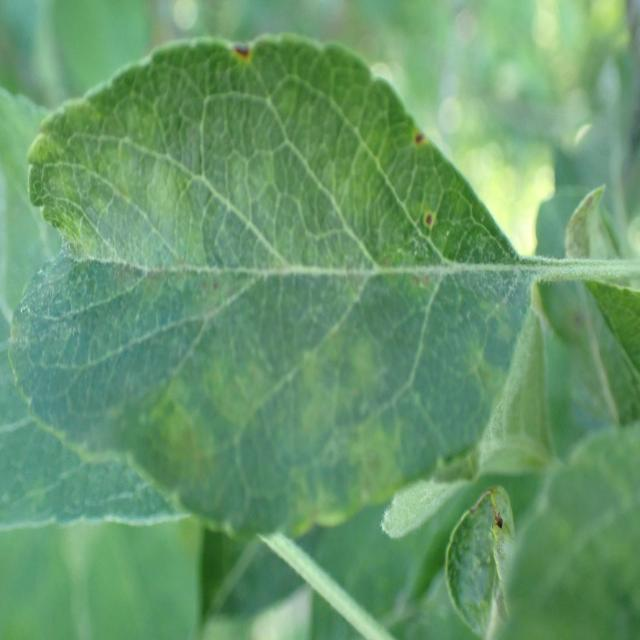scab: (50, 30, 574, 522)
